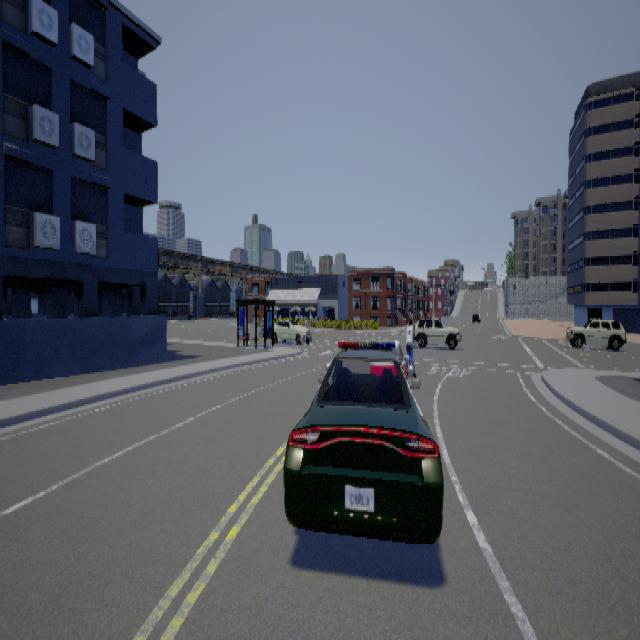bike: (402, 318, 420, 386)
vehicle: (282, 337, 443, 542), (565, 317, 626, 350), (412, 315, 461, 349), (273, 318, 311, 344)
